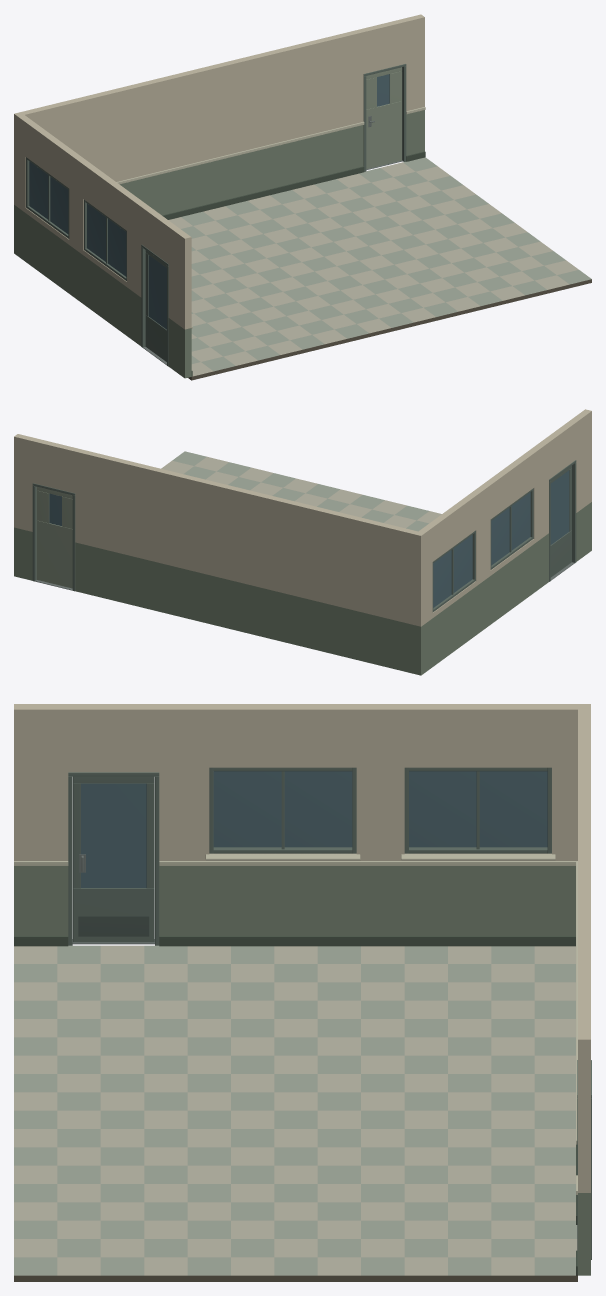
File: Diner_Architecture_Unity.fbx
3 views of the same model, one above another, from view 1: azimuth 30°, elevation 25°; view 2: azimuth 150°, elevation 25°; view 3: azimuth 270°, elevation 25° (orthographic). The views are drawn at different scales.
Visible parts, largest first — view 1: Diner_Floor, Diner_Back_Wall, Diner_Left_Wall, Diner_Staff_Door_Door_Leaf, Diner_Main_Entrance_Door_Leaf, Diner_Window_Module_02_Glass, Diner_Window_Module_01_Glass, Diner_Baseboard, Diner_Staff_Door_Frame, Diner_Divider_Back_01, Diner_Main_Entrance_Frame, Diner_Window_Module_02_Frame_Sill (+1 smaller); view 2: Diner_Back_Wall, Diner_Left_Wall, Diner_Floor, Diner_Staff_Door_Door_Leaf, Diner_Main_Entrance_Door_Leaf, Diner_Window_Module_02_Glass, Diner_Window_Module_01_Glass, Diner_Staff_Door_Frame, Diner_Main_Entrance_Frame, Diner_Window_Module_02_Frame_Sill, Diner_Window_Module_01_Frame_Sill; view 3: Diner_Floor, Diner_Left_Wall, Diner_Main_Entrance_Door_Leaf, Diner_Window_Module_01_Glass, Diner_Window_Module_02_Glass, Diner_Back_Wall, Diner_Baseboard, Diner_Window_Module_01_Frame_Sill, Diner_Window_Module_02_Frame_Sill, Diner_Main_Entrance_Frame, Diner_Divider_Left_02.
Boxes of the visible parts, x1=… form: Diner_Floor: x1=168, y1=157, x2=591, y2=380; Diner_Back_Wall: x1=14, y1=14, x2=424, y2=255; Diner_Left_Wall: x1=18, y1=115, x2=191, y2=378; Diner_Staff_Door_Door_Leaf: x1=366, y1=67, x2=402, y2=168; Diner_Main_Entrance_Door_Leaf: x1=145, y1=250, x2=166, y2=361; Diner_Window_Module_02_Glass: x1=29, y1=161, x2=68, y2=233; Diner_Window_Module_01_Glass: x1=87, y1=203, x2=126, y2=276; Diner_Baseboard: x1=162, y1=151, x2=425, y2=376; Diner_Staff_Door_Frame: x1=363, y1=64, x2=406, y2=171; Diner_Divider_Back_01: x1=116, y1=121, x2=364, y2=184; Diner_Main_Entrance_Frame: x1=141, y1=244, x2=168, y2=366; Diner_Window_Module_02_Frame_Sill: x1=26, y1=157, x2=69, y2=238; Diner_Back_Wall: x1=14, y1=434, x2=424, y2=675; Diner_Left_Wall: x1=418, y1=409, x2=591, y2=672; Diner_Floor: x1=161, y1=451, x2=441, y2=531; Diner_Staff_Door_Door_Leaf: x1=36, y1=486, x2=72, y2=588; Diner_Main_Entrance_Door_Leaf: x1=550, y1=465, x2=571, y2=577; Diner_Window_Module_02_Glass: x1=433, y1=535, x2=472, y2=607; Diner_Window_Module_01_Glass: x1=491, y1=492, x2=530, y2=565; Diner_Staff_Door_Frame: x1=32, y1=483, x2=75, y2=591; Diner_Main_Entrance_Frame: x1=549, y1=460, x2=576, y2=581; Diner_Window_Module_02_Frame_Sill: x1=432, y1=530, x2=475, y2=612; Diner_Window_Module_01_Frame_Sill: x1=490, y1=488, x2=533, y2=569; Diner_Floor: x1=14, y1=945, x2=577, y2=1281; Diner_Left_Wall: x1=14, y1=704, x2=577, y2=936; Diner_Main_Entrance_Door_Leaf: x1=73, y1=776, x2=154, y2=942; Diner_Window_Module_01_Glass: x1=213, y1=771, x2=352, y2=847; Diner_Window_Module_02_Glass: x1=409, y1=771, x2=547, y2=847; Diner_Back_Wall: x1=578, y1=704, x2=590, y2=1275; Diner_Baseboard: x1=14, y1=936, x2=577, y2=1275; Diner_Window_Module_01_Frame_Sill: x1=205, y1=767, x2=360, y2=860; Diner_Window_Module_02_Frame_Sill: x1=401, y1=767, x2=555, y2=860; Diner_Main_Entrance_Frame: x1=68, y1=772, x2=159, y2=945; Diner_Divider_Left_02: x1=159, y1=861, x2=575, y2=865.
Bounding box in the file's own units: 9.16 × 3.08 × 6.66.
